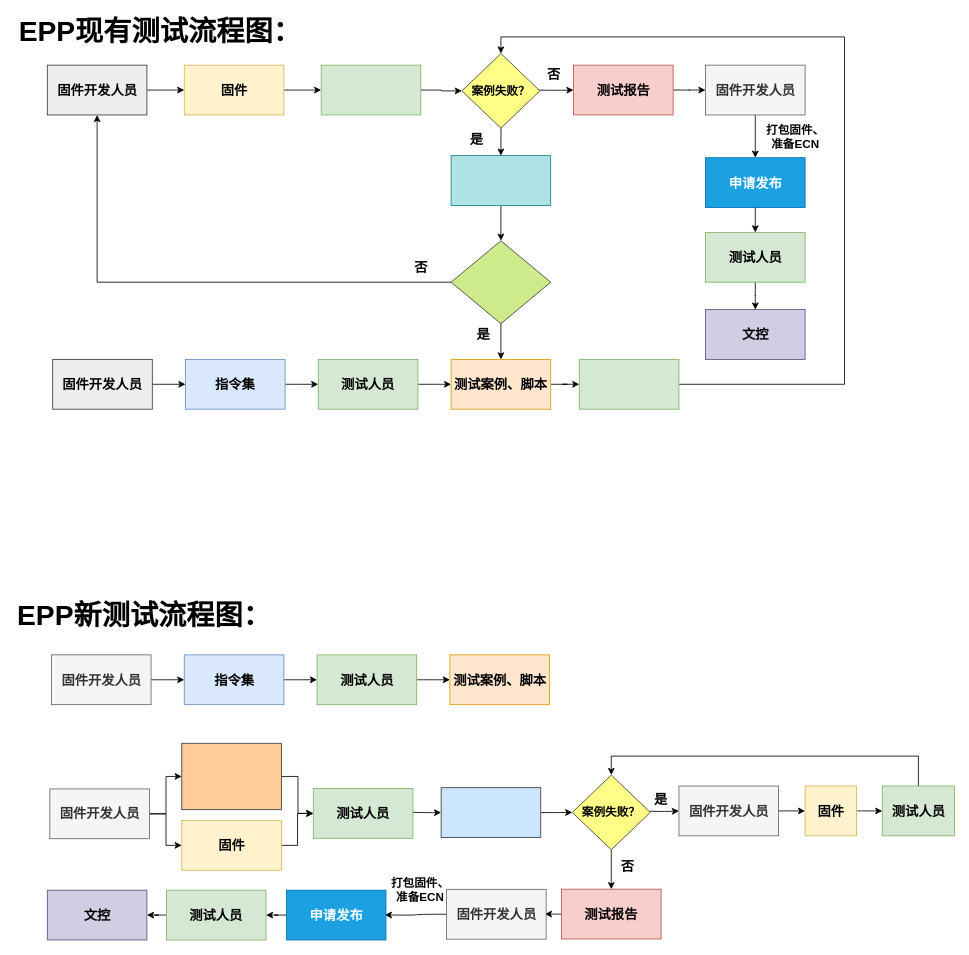
The diagram is 969 pixels wide and 955 high, and some of its shapes have lost their labels. Here are the shapes that lost their labels. From the top down, the centre of each, then its label:
At point (370, 89): "测试人员 执行测试".
At point (500, 180): "与开发沟通".
At point (500, 282): "固件不同需求？".
At point (629, 384): "执行脚本".
At point (231, 776): "勾选测试案例，备注需要适配的案例".
At point (490, 812): "修改案例、适配脚本、执行测试".
